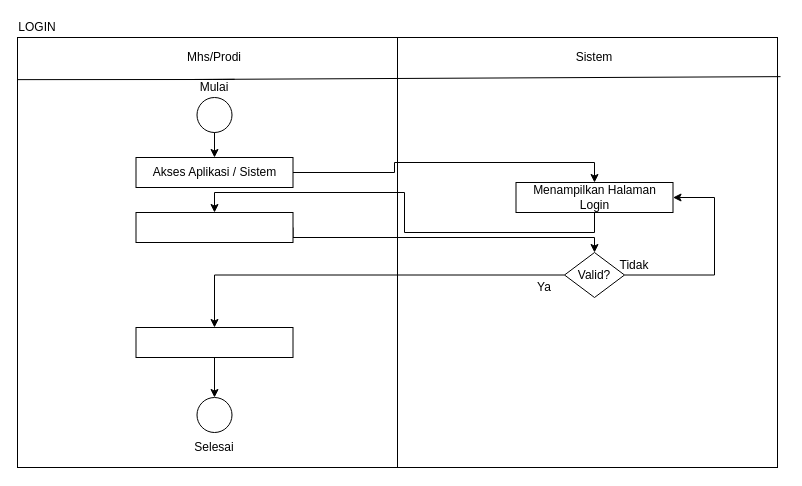
Image size: 802x486. Some labels were removed from this diagram. The shapes that lost their labels are listed below. From the top down, each one's centre as x and y in pixels, then its label:
pixel 214 227: Mengisi Form Login
pixel 214 342: Masuk ke Halaman Utama
